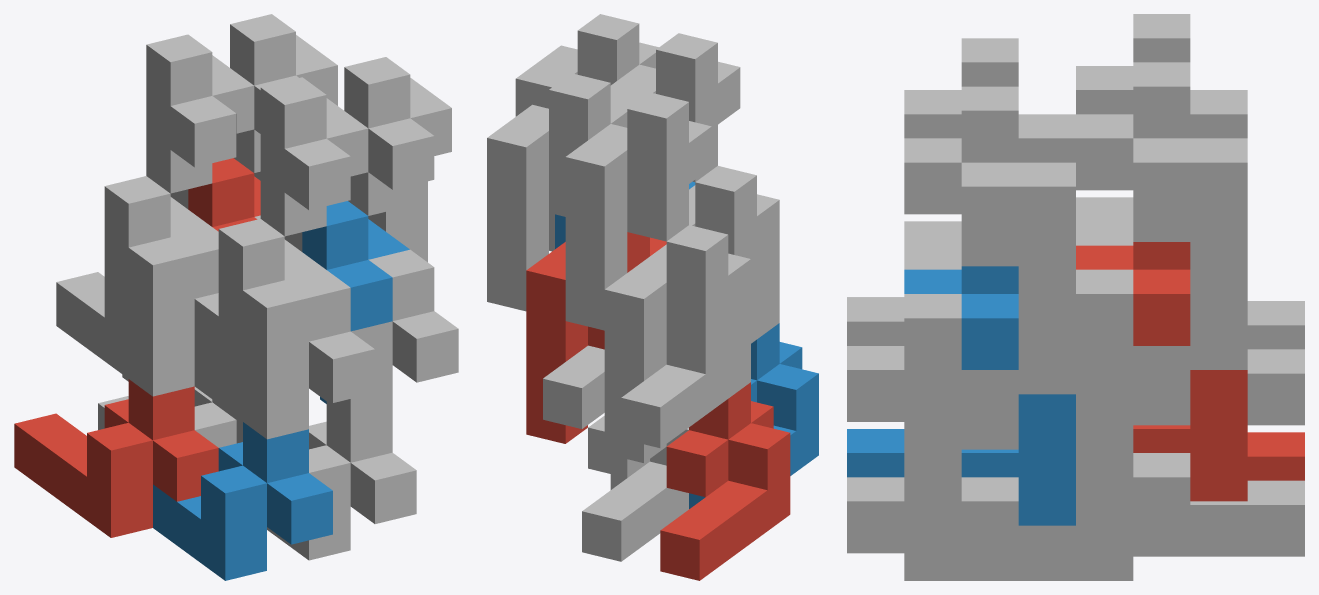
Rendered from tiling.obj.
3 renders of one model, left to right at view 1: azimuth 30°, elevation 25°; view 2: azimuth 150°, elevation 25°; view 3: azimuth 270°, elevation 25°, orthographic. The views are drawn at different scales.
Visible parts, largest first — view 1: copy_1_domain_1, copy_1_domain_2, copy_1_domain_4, copy_2_domain_8, copy_1_domain_3, copy_2_domain_4, copy_2_domain_3, copy_2_domain_2, copy_2_domain_1, copy_1_domain_6, copy_1_domain_8, copy_2_domain_6 (+3 smaller); view 2: copy_2_domain_3, copy_2_domain_1, copy_1_domain_1, copy_2_domain_7, copy_2_domain_5, copy_1_domain_3, copy_1_domain_5, copy_2_domain_4, copy_2_domain_8, copy_1_domain_2, copy_2_domain_2, copy_1_domain_7 (+1 smaller); view 3: copy_2_domain_8, copy_2_domain_7, copy_1_domain_6, copy_1_domain_8, copy_1_domain_5, copy_1_domain_7, copy_2_domain_5, copy_2_domain_6, copy_2_domain_4, copy_2_domain_3, copy_1_domain_2, copy_1_domain_1 (+4 smaller).
Boxes of the visible parts, x1,y1,x2,y2 form: copy_1_domain_1: [14, 379, 218, 537]; copy_1_domain_2: [153, 422, 332, 580]; copy_1_domain_4: [194, 270, 374, 439]; copy_2_domain_8: [344, 57, 451, 262]; copy_1_domain_3: [56, 227, 218, 396]; copy_2_domain_4: [260, 77, 368, 251]; copy_2_domain_3: [146, 34, 254, 209]; copy_2_domain_2: [218, 219, 325, 424]; copy_2_domain_1: [104, 176, 211, 381]; copy_1_domain_6: [267, 402, 416, 560]; copy_1_domain_8: [309, 249, 458, 418]; copy_2_domain_6: [302, 201, 409, 403]; copy_2_domain_3: [565, 92, 711, 330]; copy_2_domain_1: [604, 225, 750, 462]; copy_1_domain_1: [660, 382, 790, 580]; copy_2_domain_7: [487, 73, 630, 311]; copy_2_domain_5: [526, 232, 666, 443]; copy_1_domain_3: [621, 244, 750, 448]; copy_1_domain_5: [582, 416, 688, 561]; copy_2_domain_4: [610, 33, 740, 181]; copy_2_domain_8: [515, 14, 658, 251]; copy_1_domain_2: [689, 323, 818, 508]; copy_2_domain_2: [689, 166, 779, 302]; copy_1_domain_7: [543, 345, 604, 428]; copy_2_domain_8: [904, 86, 1075, 394]; copy_2_domain_7: [1076, 62, 1247, 369]; copy_1_domain_6: [847, 449, 1133, 580]; copy_1_domain_8: [847, 294, 1133, 449]; copy_1_domain_5: [1018, 449, 1304, 556]; copy_1_domain_7: [1076, 269, 1304, 425]; copy_2_domain_5: [1076, 242, 1247, 501]; copy_2_domain_6: [904, 266, 1075, 525]; copy_2_domain_4: [904, 38, 1075, 162]; copy_2_domain_3: [1076, 14, 1247, 138]; copy_1_domain_2: [847, 429, 1018, 477]; copy_1_domain_1: [1133, 425, 1304, 480].
Size of the model in its own units: 7 by 10 by 8.
